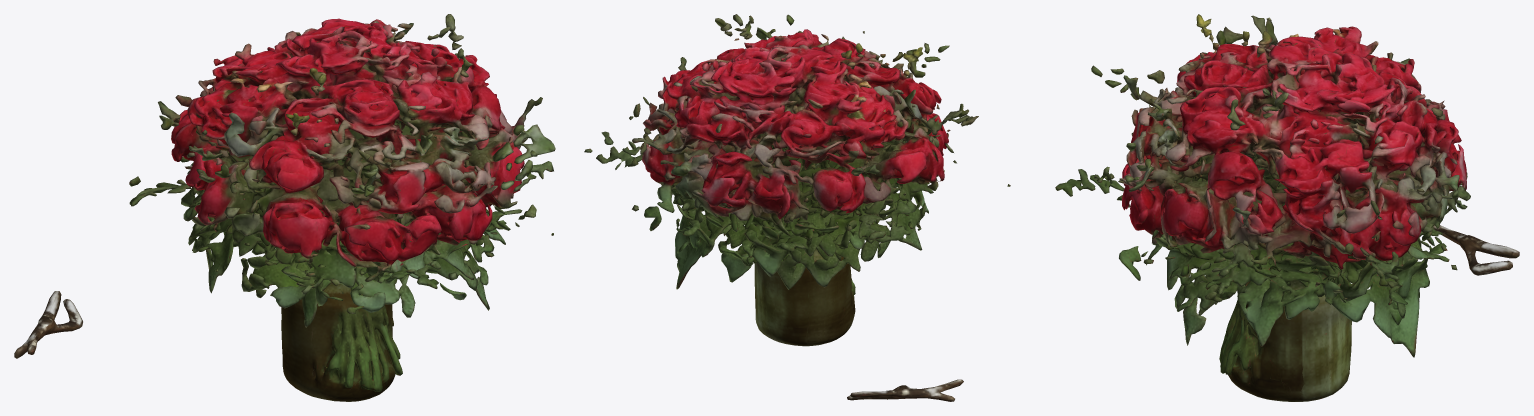
The model's file is kwiaty3.glb.
3 renders of one model, left to right at view 1: azimuth 30°, elevation 25°; view 2: azimuth 150°, elevation 25°; view 3: azimuth 270°, elevation 25°, orthographic. The views are drawn at different scales.
Parts seen in each view (by area): view 1: world; view 2: world; view 3: world.
Boxes of the visible parts, x1=… form: world: x1=14, y1=14, x2=555, y2=401; world: x1=584, y1=14, x2=978, y2=401; world: x1=1007, y1=14, x2=1519, y2=401.
Bounding box in the file's own units: 1 × 0.7264 × 0.988.
Materials: 1 (1 with a texture image).
